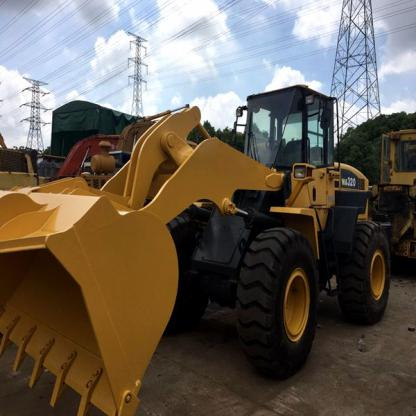bull_dozer/loader/grader: (6, 74, 406, 415)
